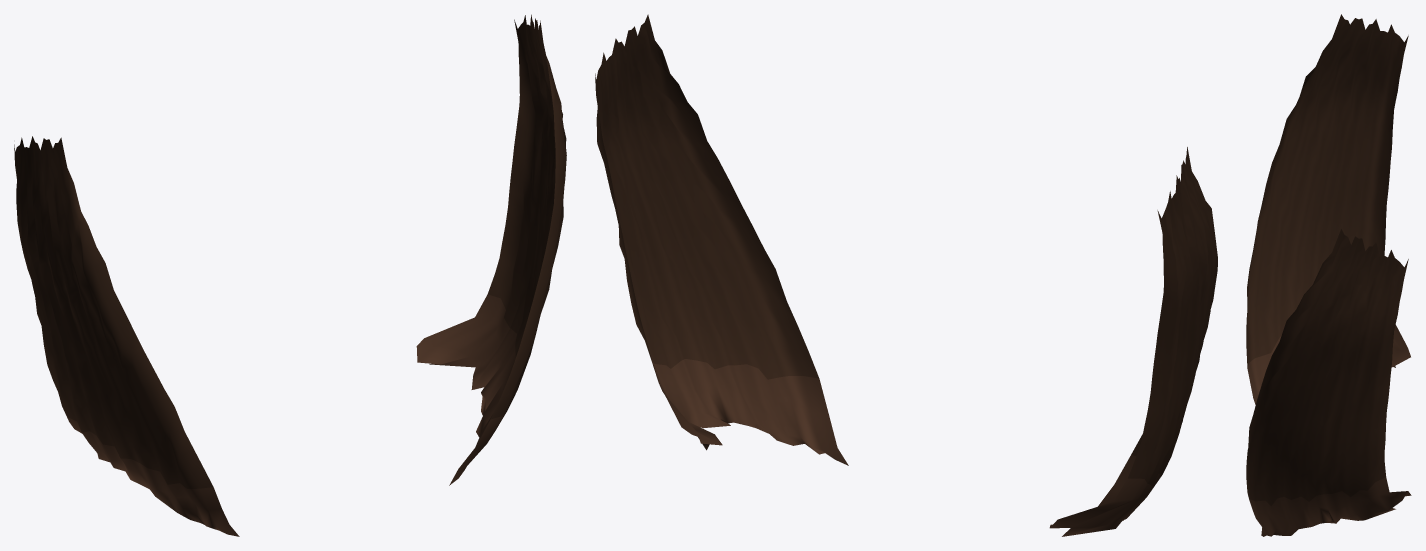
Rendered from vincentt-mutton-chops.glb.
3 views of the same model, side by side, from view 1: azimuth 30°, elevation 25°; view 2: azimuth 150°, elevation 25°; view 3: azimuth 270°, elevation 25° (orthographic). The views are drawn at different scales.
Parts seen in each view (by area): view 1: mutton_chops_clumps; view 2: mutton_chops_clumps; view 3: mutton_chops_clumps.
Part boxes in pixels (<box>): mutton_chops_clumps: <box>14,14,566,536</box>; mutton_chops_clumps: <box>595,14,1217,536</box>; mutton_chops_clumps: <box>1246,14,1411,536</box>.
Size of what is drawn, in the model's own units: 0.1569 by 0.1158 by 0.0472.
Materials: 2 (2 with a texture image).
